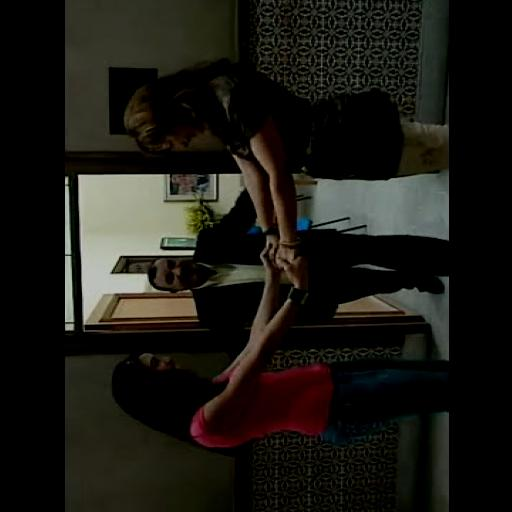Dalanda: (137, 352, 197, 389)
zeineb: (124, 84, 210, 154)
